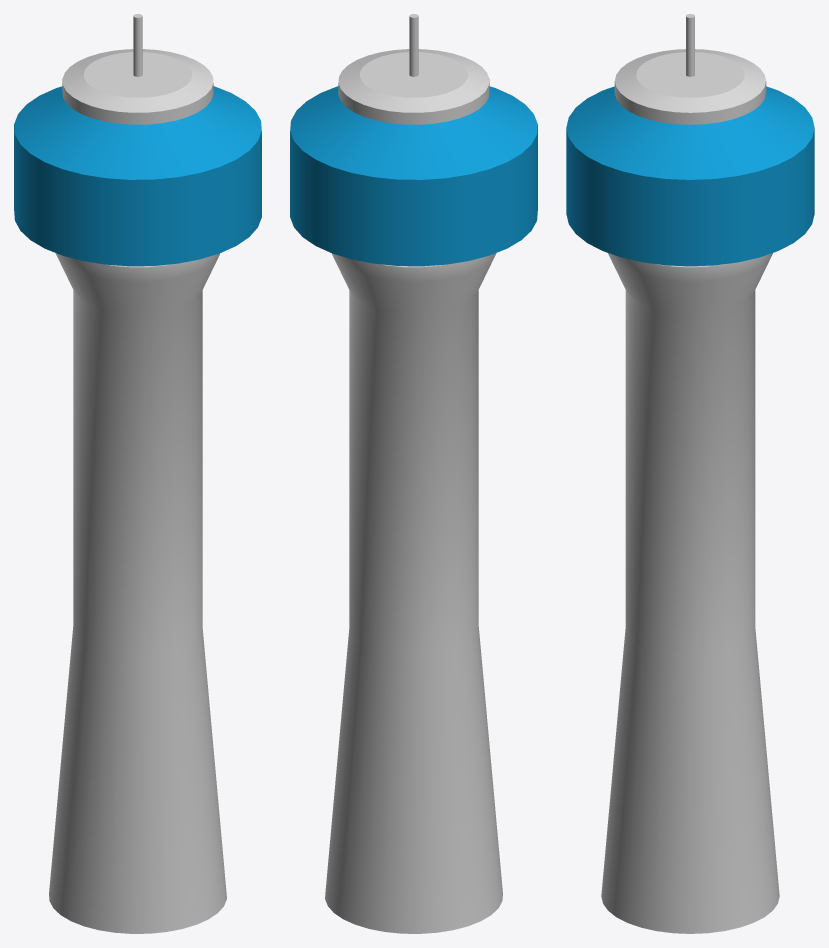
File: Skyscraper(65).fbx
The picture shows the model from 3 angles, left to right: view 1: azimuth 30°, elevation 25°; view 2: azimuth 150°, elevation 25°; view 3: azimuth 270°, elevation 25°; orthographic projection.
Visible parts, largest first — view 1: Cylinder; view 2: Cylinder; view 3: Cylinder.
Part boxes in pixels (x1,y1,x2,y2): Cylinder: (14, 14, 261, 933); Cylinder: (290, 14, 537, 933); Cylinder: (566, 14, 814, 933).
Bounding box in the file's own units: 16.59 × 64.92 × 16.59.
